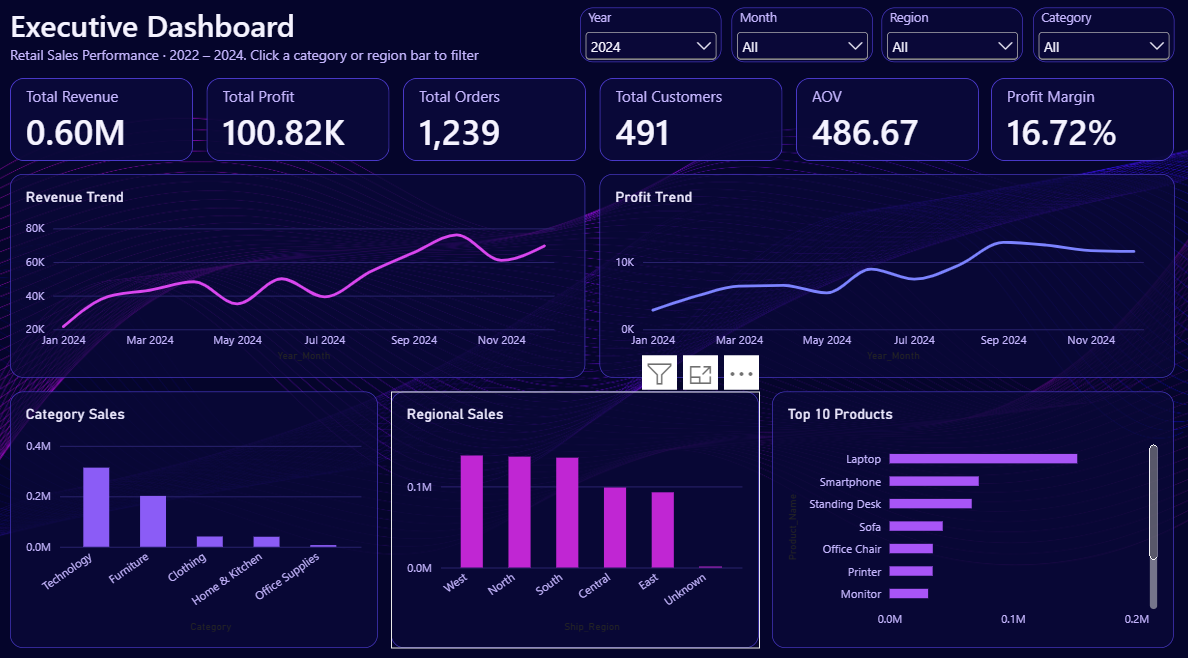

Layout of this report page (visuals, bound fields, positions):
{"tool":"powerbi","page":{"name":"Executive Dashboard","canvas":[1280,720],"ordinal":0},"visuals":[{"type":"cardVisual","fields":{"Data":["FactSales.Total Revenue"]},"box":[23,92,194,88],"z":0},{"type":"cardVisual","fields":{"Data":["FactSales.Total Profit"]},"box":[231,92,194,88],"z":1000},{"type":"cardVisual","fields":{"Data":["FactSales.Total Orders"]},"box":[439,92,194,88],"z":2000},{"type":"cardVisual","fields":{"Data":["FactSales.Total Customers"]},"box":[647,92,194,88],"z":3000},{"type":"cardVisual","fields":{"Data":["FactSales.Profit Margin"]},"box":[1063,92,194,88],"z":4000},{"type":"cardVisual","fields":{"Data":["FactSales.AOV"]},"box":[855,92,194,88],"z":5000},{"type":"textbox","box":[23,14,560,64],"z":6000},{"type":"slicer","title":"Year","fields":{"Values":["DimDate.Year"]},"box":[627,18,150,58],"z":7000},{"type":"slicer","title":"Year","fields":{"Values":["FactSales.Ship_Region"]},"box":[947,18,150,58],"z":8000},{"type":"slicer","title":"Year","fields":{"Values":["DimDate.Month"]},"box":[787,18,150,58],"z":9000},{"type":"slicer","title":"Year","fields":{"Values":["DimProduct.Category"]},"box":[1107,18,150,58],"z":10000},{"type":"lineChart","title":"Revenue Trend","fields":{"Category":["DimDate.Year_Month"],"Y":["FactSales.Total Revenue"]},"box":[23,194.6,610,216],"z":11000},{"type":"lineChart","title":"Profit Trend","fields":{"Category":["DimDate.Year_Month"],"Y":["FactSales.Total Profit"]},"box":[647,194.6,610,216],"z":12000},{"type":"clusteredColumnChart","title":"Category Sales","fields":{"Category":["DimProduct.Category"],"Y":["FactSales.Total Revenue"]},"box":[23,424,390,272],"z":13000},{"type":"clusteredColumnChart","title":"Regional Sales","fields":{"Category":["FactSales.Ship_Region"],"Y":["FactSales.Total Revenue"]},"box":[427,424,390,272],"z":14000},{"type":"clusteredBarChart","title":"Top 10 Products","fields":{"Category":["DimProduct.Product_Name"],"Y":["FactSales.Total Revenue"]},"box":[831,424,426,272],"z":15000}]}

Visuals, with their boxes in screenshot pixels (x1, y1, x2, y2), scaled from the page's 1280x720 canvas onto the 1188x658 screenshot:
cardVisual - FactSales.Total Revenue: left=21, top=84, right=201, bottom=164
cardVisual - FactSales.Total Profit: left=214, top=84, right=394, bottom=164
cardVisual - FactSales.Total Orders: left=407, top=84, right=588, bottom=164
cardVisual - FactSales.Total Customers: left=600, top=84, right=781, bottom=164
cardVisual - FactSales.Profit Margin: left=987, top=84, right=1167, bottom=164
cardVisual - FactSales.AOV: left=794, top=84, right=974, bottom=164
textbox: left=21, top=13, right=541, bottom=71
"Year" slicer: left=582, top=16, right=721, bottom=69
"Year" slicer: left=879, top=16, right=1018, bottom=69
"Year" slicer: left=730, top=16, right=870, bottom=69
"Year" slicer: left=1027, top=16, right=1167, bottom=69
"Revenue Trend" lineChart: left=21, top=178, right=588, bottom=375
"Profit Trend" lineChart: left=600, top=178, right=1167, bottom=375
"Category Sales" clusteredColumnChart: left=21, top=387, right=383, bottom=636
"Regional Sales" clusteredColumnChart: left=396, top=387, right=758, bottom=636
"Top 10 Products" clusteredBarChart: left=771, top=387, right=1167, bottom=636
